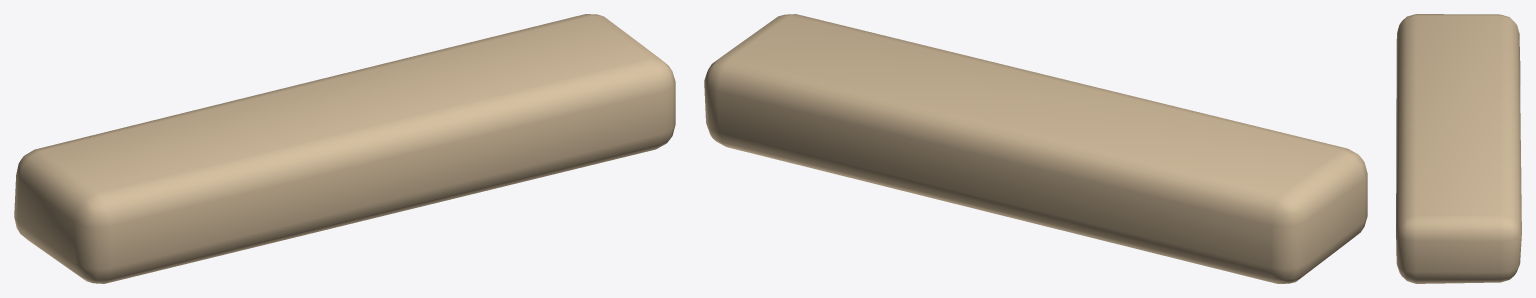
Rendered from STUFE_12MC.glb.
The picture shows the model from 3 angles, left to right: view 1: azimuth 30°, elevation 25°; view 2: azimuth 150°, elevation 25°; view 3: azimuth 270°, elevation 25°; orthographic projection. The views are drawn at different scales.
Parts seen in each view (by area): view 1: STUFE_12MC; view 2: STUFE_12MC; view 3: STUFE_12MC.
Boxes of the visible parts, x1,y1,x2,y2 form: STUFE_12MC: (14, 14, 675, 283); STUFE_12MC: (704, 14, 1367, 283); STUFE_12MC: (1396, 14, 1521, 283).
Size of the model in its own units: 3.15 by 0.4557 by 0.7744.
